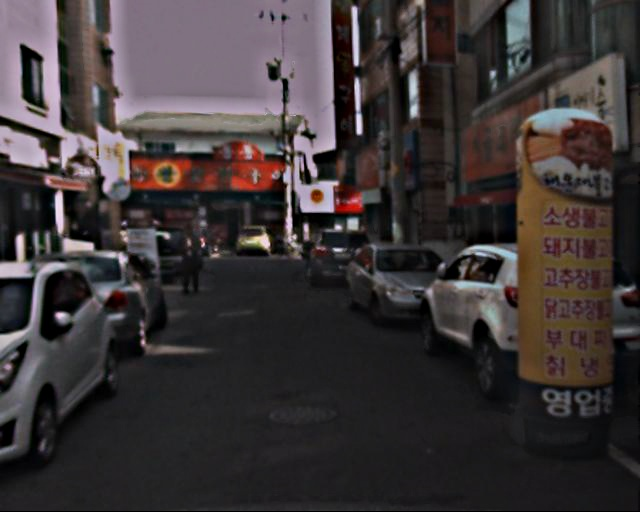person: (174, 222, 208, 296)
